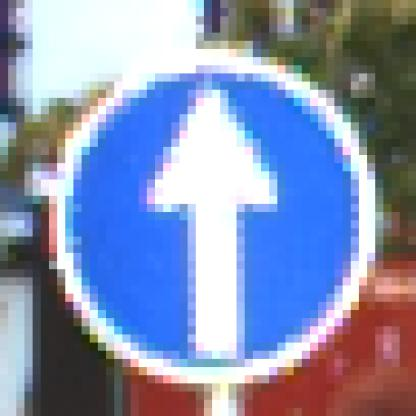AheadOnly: (50, 50, 376, 376)
